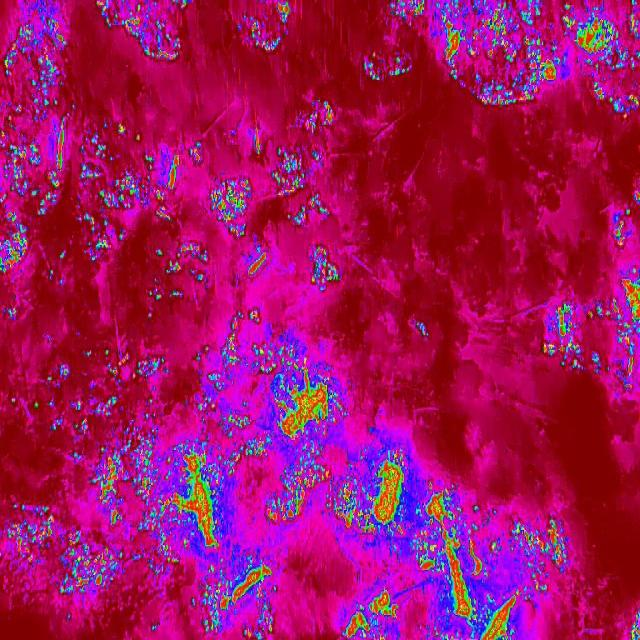fire: (0, 331, 332, 640), (66, 97, 360, 301), (329, 435, 566, 640), (363, 0, 640, 120), (0, 1, 70, 278), (538, 270, 640, 388), (90, 0, 194, 70), (227, 0, 296, 62), (610, 189, 640, 251), (628, 606, 640, 640)
